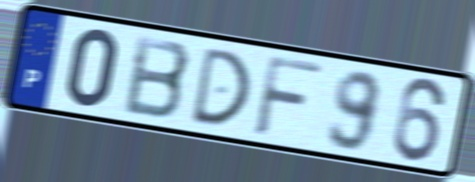0: (62, 27, 122, 111)
6: (391, 76, 447, 164)
9: (326, 68, 385, 153)
B: (121, 32, 195, 122)
D: (187, 45, 253, 128)
F: (250, 52, 327, 141)
